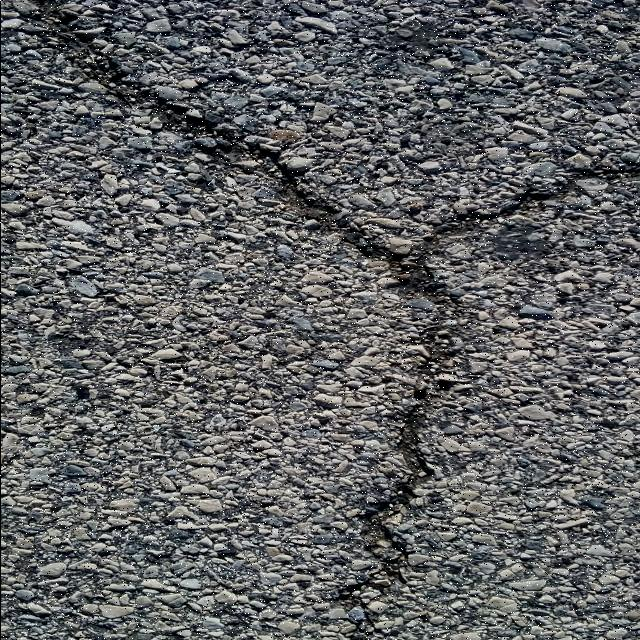Crack: (22, 0, 640, 640)
